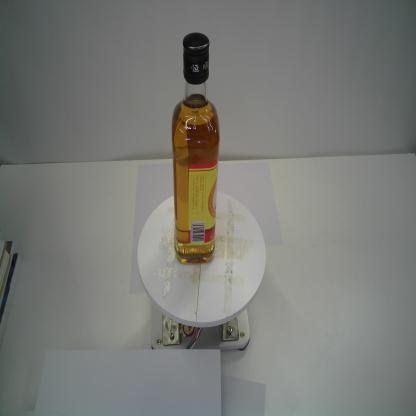Seasoner: (169, 30, 220, 266)
